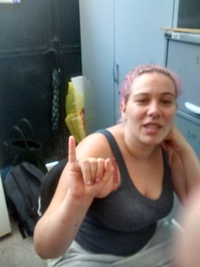oi: (59, 135, 115, 200)
